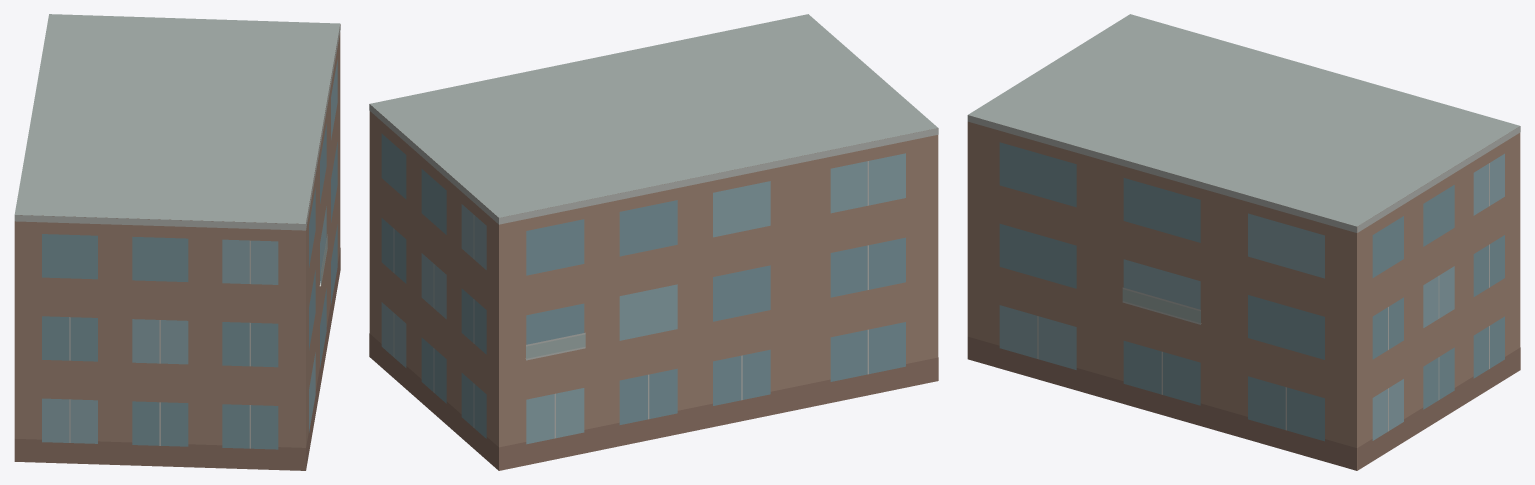
File: survey-upis-32707488.glb
The picture shows the model from 3 angles, left to right: view 1: azimuth 30°, elevation 25°; view 2: azimuth 150°, elevation 25°; view 3: azimuth 270°, elevation 25°; orthographic projection. The views are drawn at different scales.
Visible parts, largest first — view 1: survey-upis-32707488.tmp; view 2: survey-upis-32707488.tmp; view 3: survey-upis-32707488.tmp.
Part boxes in pixels (<box>): survey-upis-32707488.tmp: <box>14,14,340,470</box>; survey-upis-32707488.tmp: <box>369,14,938,470</box>; survey-upis-32707488.tmp: <box>967,14,1520,470</box>.
Size of the model in its own units: 17.09 by 9.15 by 18.78.
